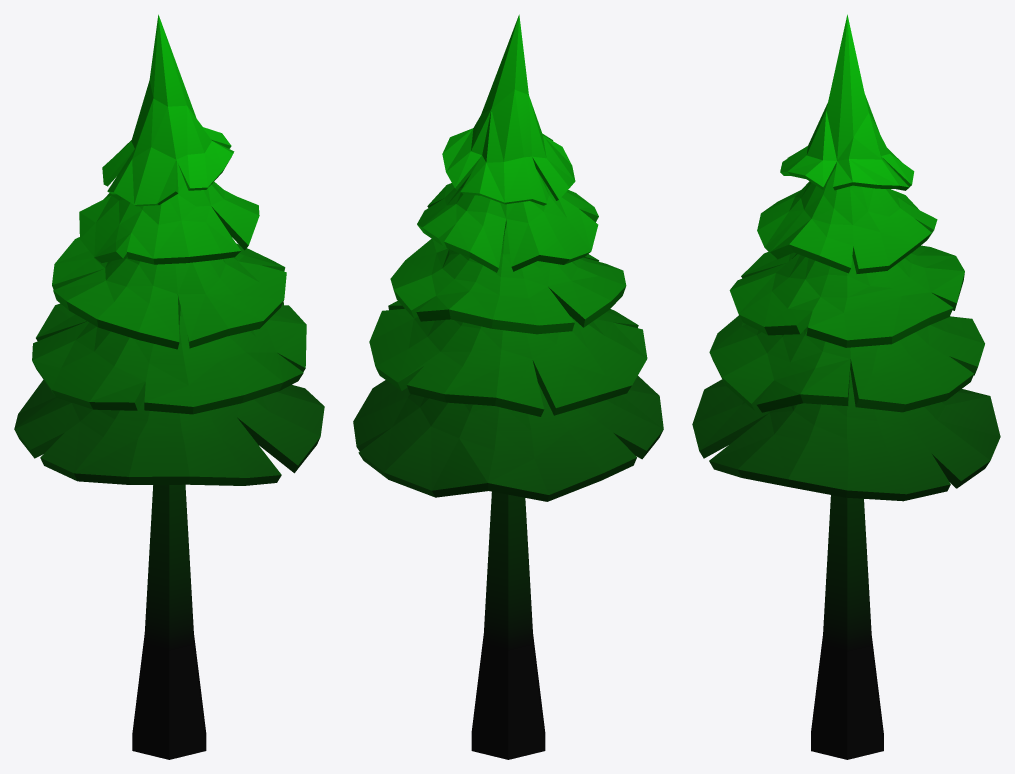
The model's file is SM_Tree_Pine_04.fbx.
The picture shows the model from 3 angles, left to right: view 1: azimuth 30°, elevation 25°; view 2: azimuth 150°, elevation 25°; view 3: azimuth 270°, elevation 25°; orthographic projection.
Visible parts, largest first — view 1: SM_Tree_Pine_04_LOD0; view 2: SM_Tree_Pine_04_LOD0; view 3: SM_Tree_Pine_04_LOD0.
Boxes of the visible parts, left/top/right/bottom form: SM_Tree_Pine_04_LOD0: left=14, top=14, right=324, bottom=759; SM_Tree_Pine_04_LOD0: left=353, top=14, right=663, bottom=759; SM_Tree_Pine_04_LOD0: left=692, top=14, right=1000, bottom=759.
Size of the model in its own units: 274 by 710 by 274.
